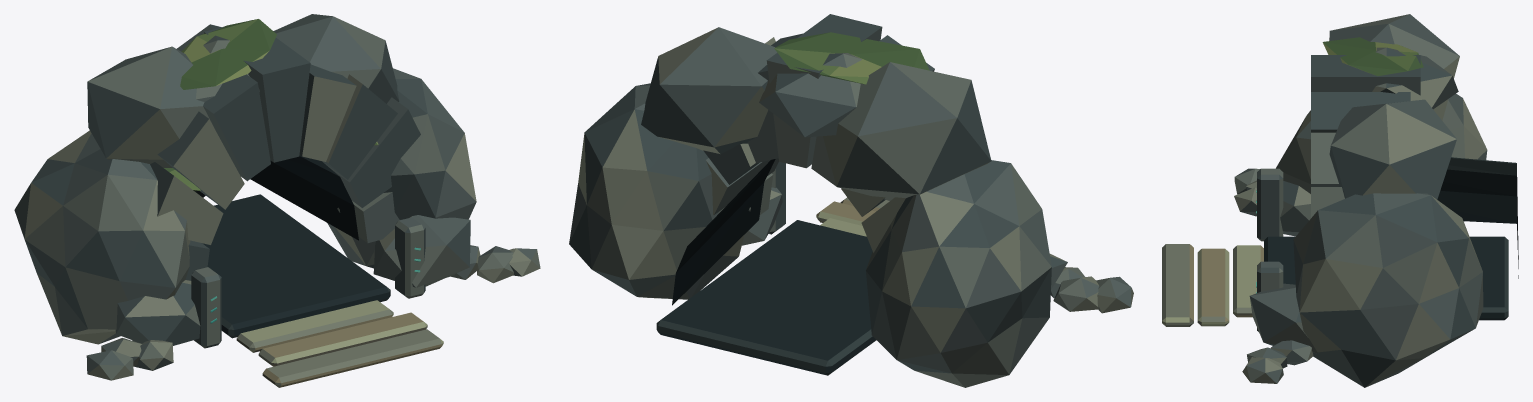
Rendered from BlackfangCave_LOD0.fbx.
The picture shows the model from 3 angles, left to right: view 1: azimuth 30°, elevation 25°; view 2: azimuth 150°, elevation 25°; view 3: azimuth 270°, elevation 25°; orthographic projection. The views are drawn at different scales.
Parts seen in each view (by area): view 1: BlackfangCave_Detail0; view 2: BlackfangCave_Detail0; view 3: BlackfangCave_Detail0.
Part boxes in pixels (x1,y1,x2,y2): BlackfangCave_Detail0: (14,14,540,387); BlackfangCave_Detail0: (569,14,1133,387); BlackfangCave_Detail0: (1162,14,1518,387).
Bounding box in the file's own units: 1200 × 714 × 875.
Materials: 1 (1 with a texture image).
